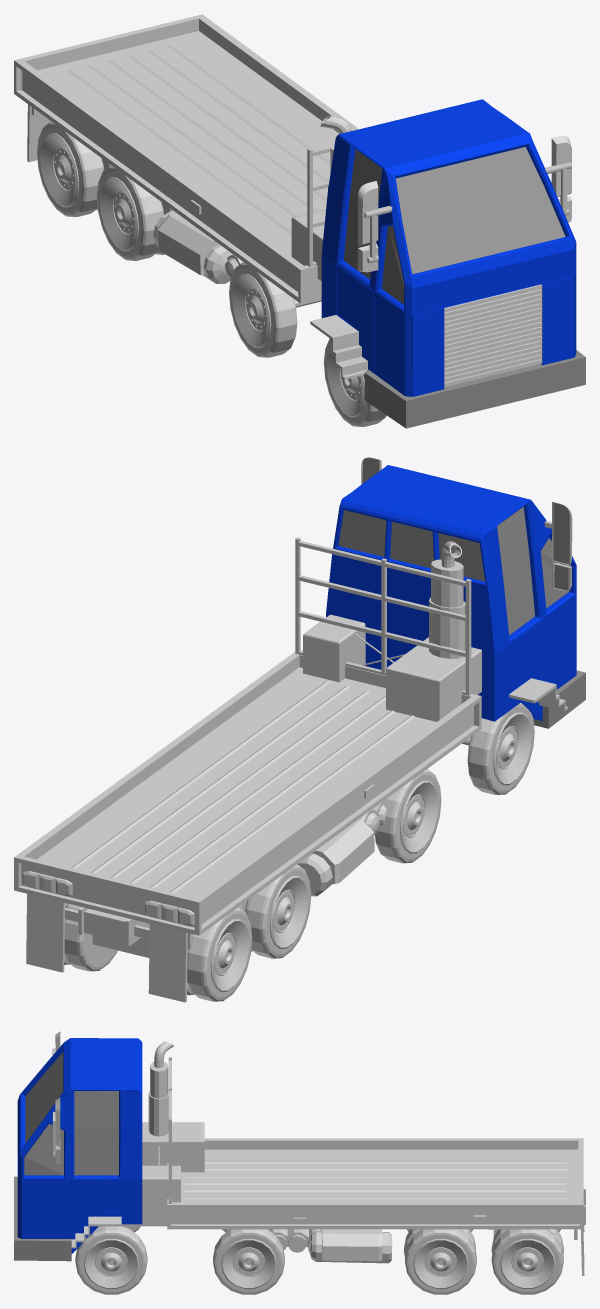
File: Truck.FBX
3 views of the same model, one above another, from view 1: azimuth 30°, elevation 25°; view 2: azimuth 150°, elevation 25°; view 3: azimuth 270°, elevation 25° (orthographic). The views are drawn at different scales.
Parts seen in each view (by area): view 1: Box350; view 2: Box350; view 3: Box350.
Part boxes in pixels (box(x1,y1,x2,y2)): Box350: box(14, 14, 585, 428); Box350: box(14, 457, 585, 1002); Box350: box(14, 1031, 585, 1294).
Bounding box in the file's own units: 90.3 × 108 × 282.
